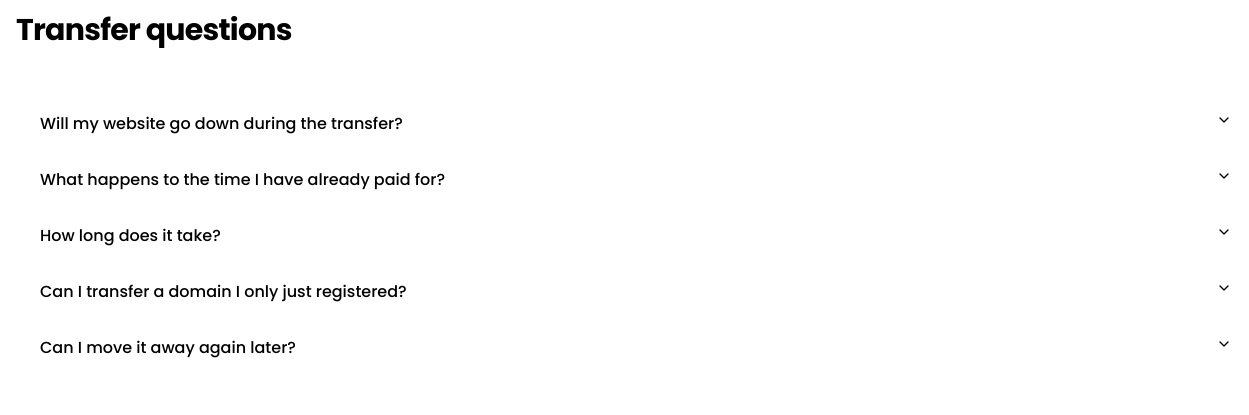
Test: TransferFaq › states the lock after registration from the shared rule
Step 1. Click the button "Can I transfer a domain I only just registered?" → [223, 292], box [40, 264, 1232, 320]
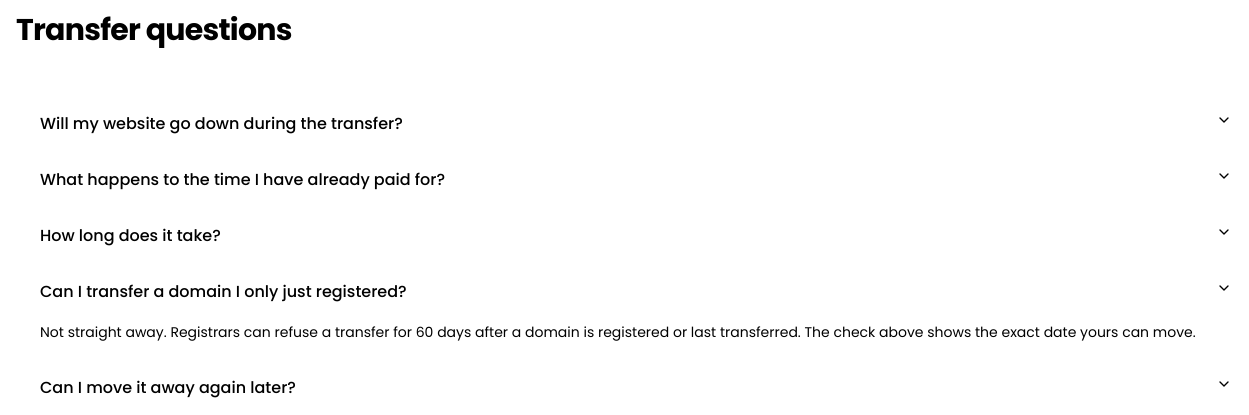
Result: the text "refuse a transfer for 60 days" is shown at [40, 322, 1196, 342]
